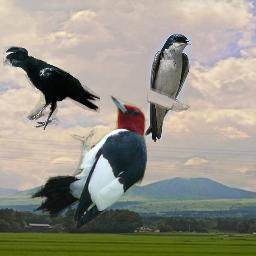Crow: (3, 46, 100, 130)
Swallow: (145, 34, 192, 142)
Woodpecker: (29, 95, 147, 229)
